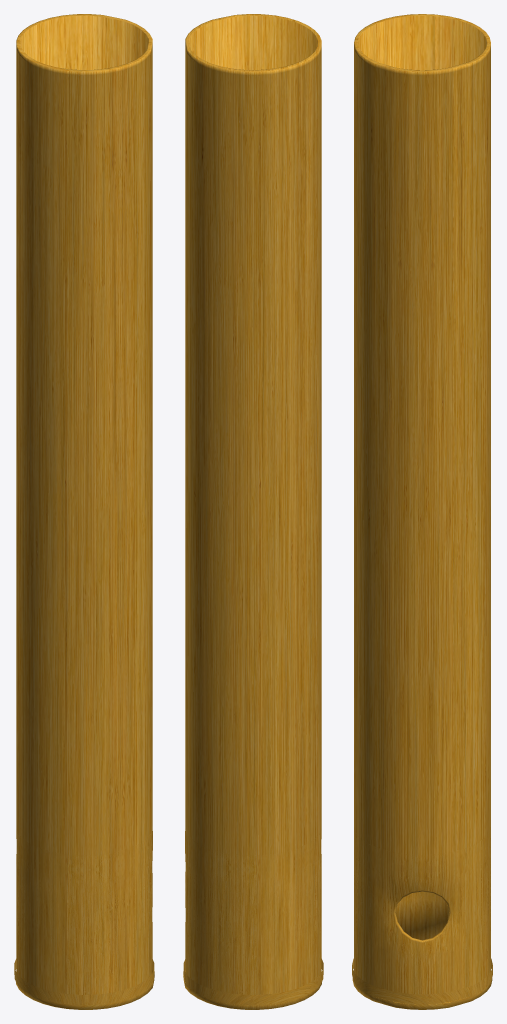
Rendered from seruling_bambu.glb.
3 renders of one model, left to right at view 1: azimuth 30°, elevation 25°; view 2: azimuth 150°, elevation 25°; view 3: azimuth 270°, elevation 25°, orthographic.
Parts seen in each view (by area): view 1: Cylinder.003, Cylinder.004, Cylinder.002; view 2: Cylinder.003, Cylinder.004, Cylinder.002; view 3: Cylinder.003, Cylinder.004, Cylinder.002.
Boxes of the visible parts, x1,y1,x2,y2 form: Cylinder.003: (16,14,152,994); Cylinder.004: (14,959,154,1005); Cylinder.002: (16,970,154,1009); Cylinder.003: (185,14,321,994); Cylinder.004: (183,959,323,1005); Cylinder.002: (183,970,321,1009); Cylinder.003: (354,14,490,994); Cylinder.004: (352,958,492,1004); Cylinder.002: (352,970,492,1009).
Bounding box in the file's own units: 0.6569 × 4.82 × 0.6559.
2 materials, 2 textured.
